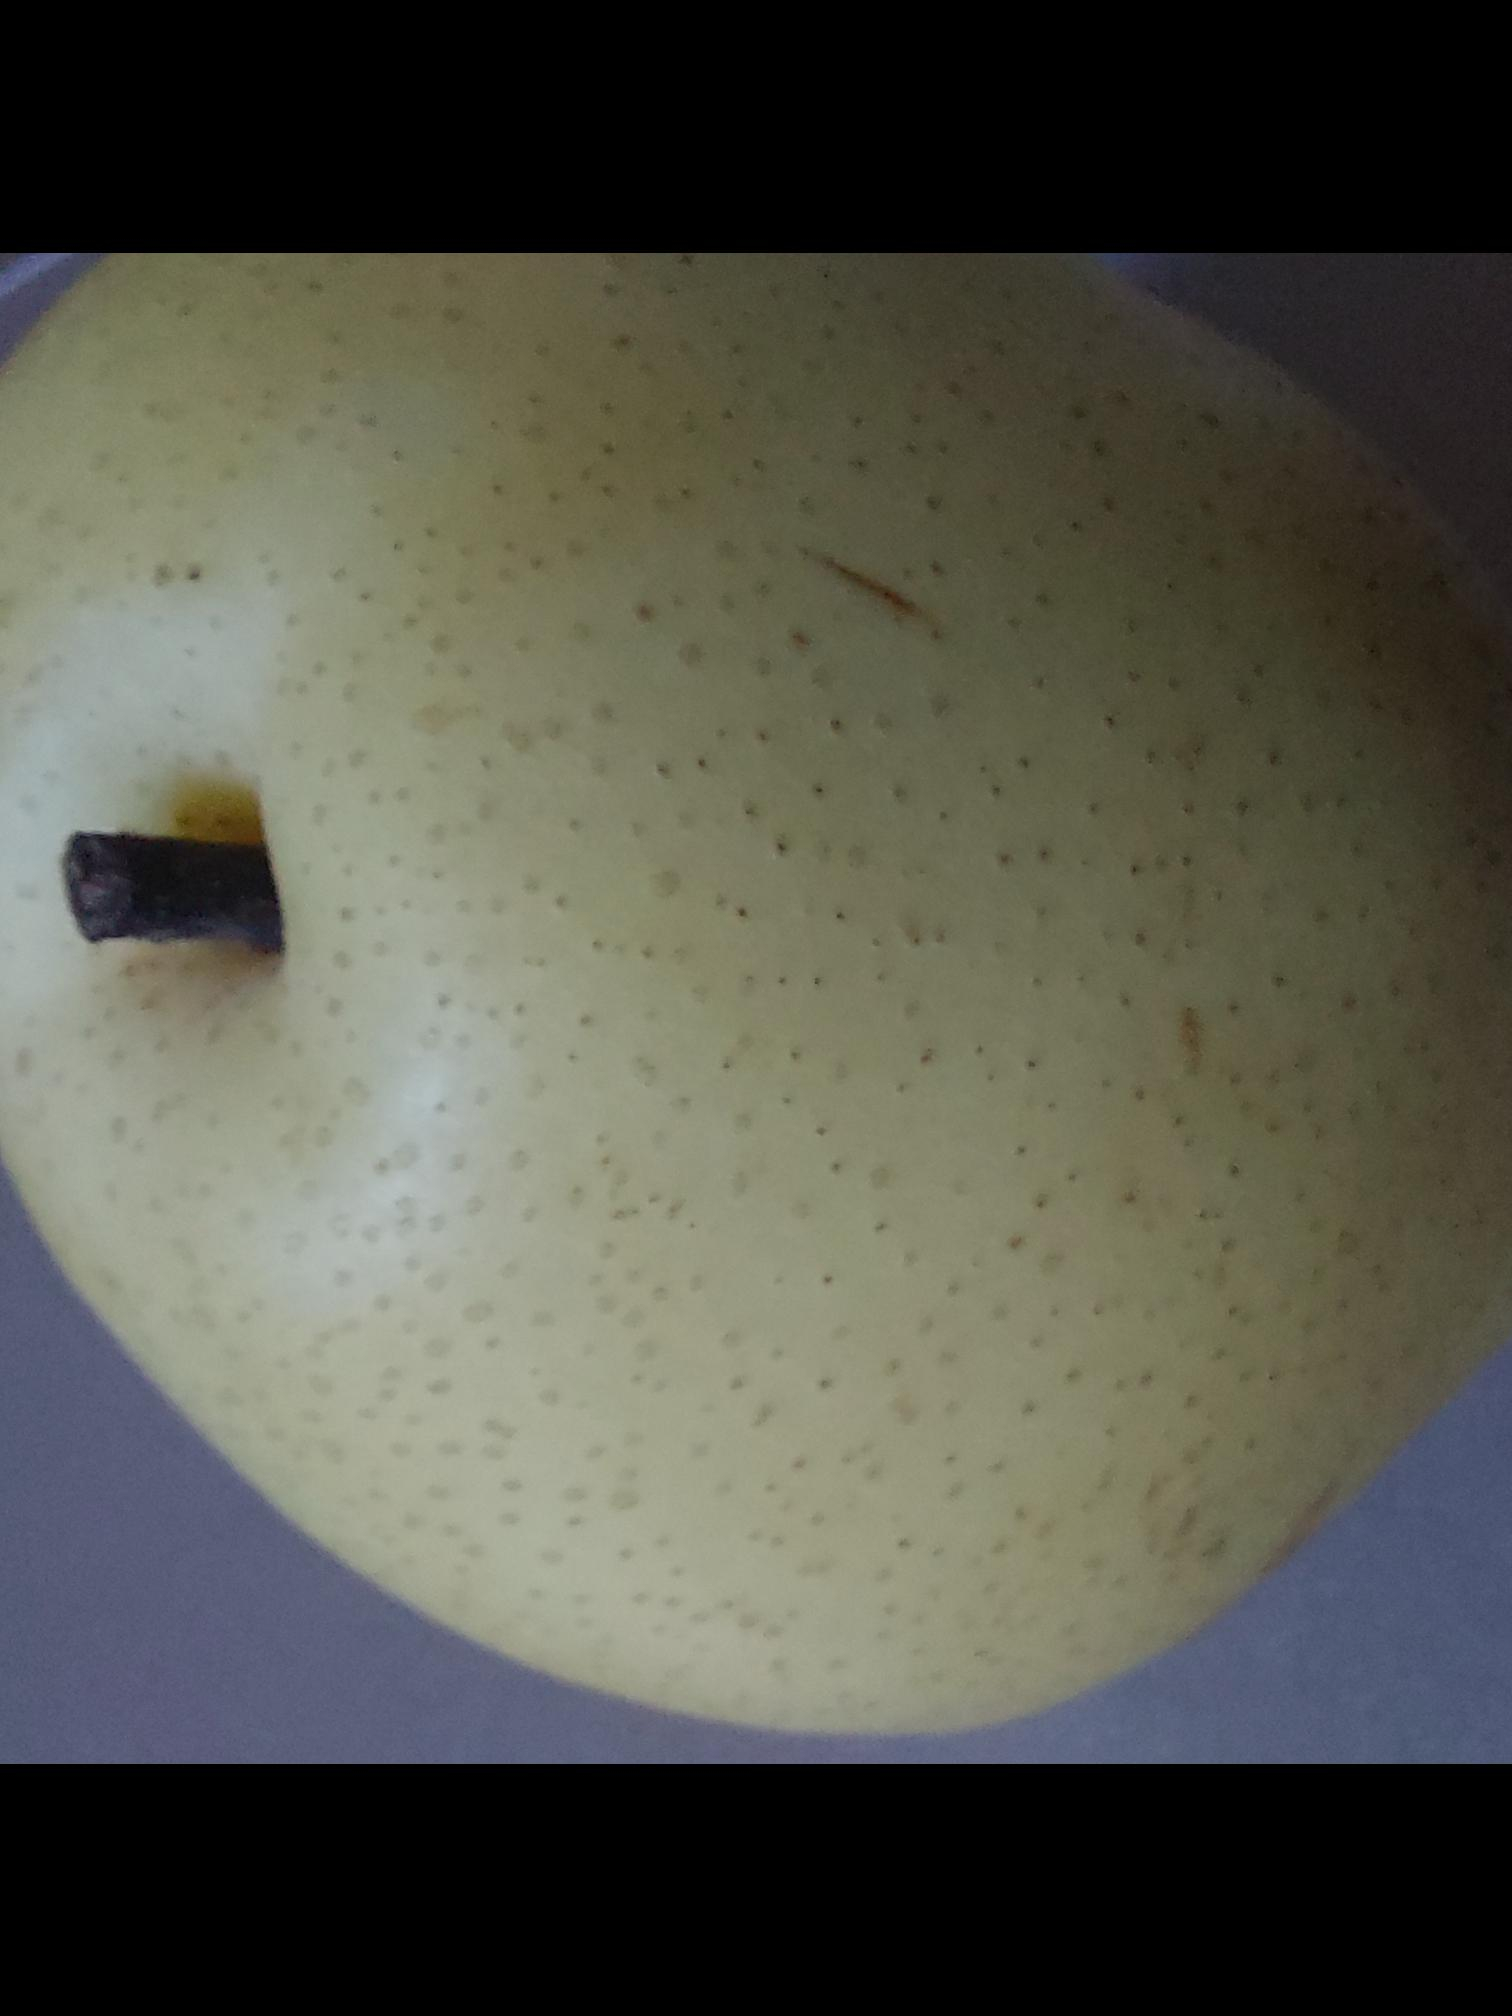Good Pear: (0, 252, 1512, 1756)
